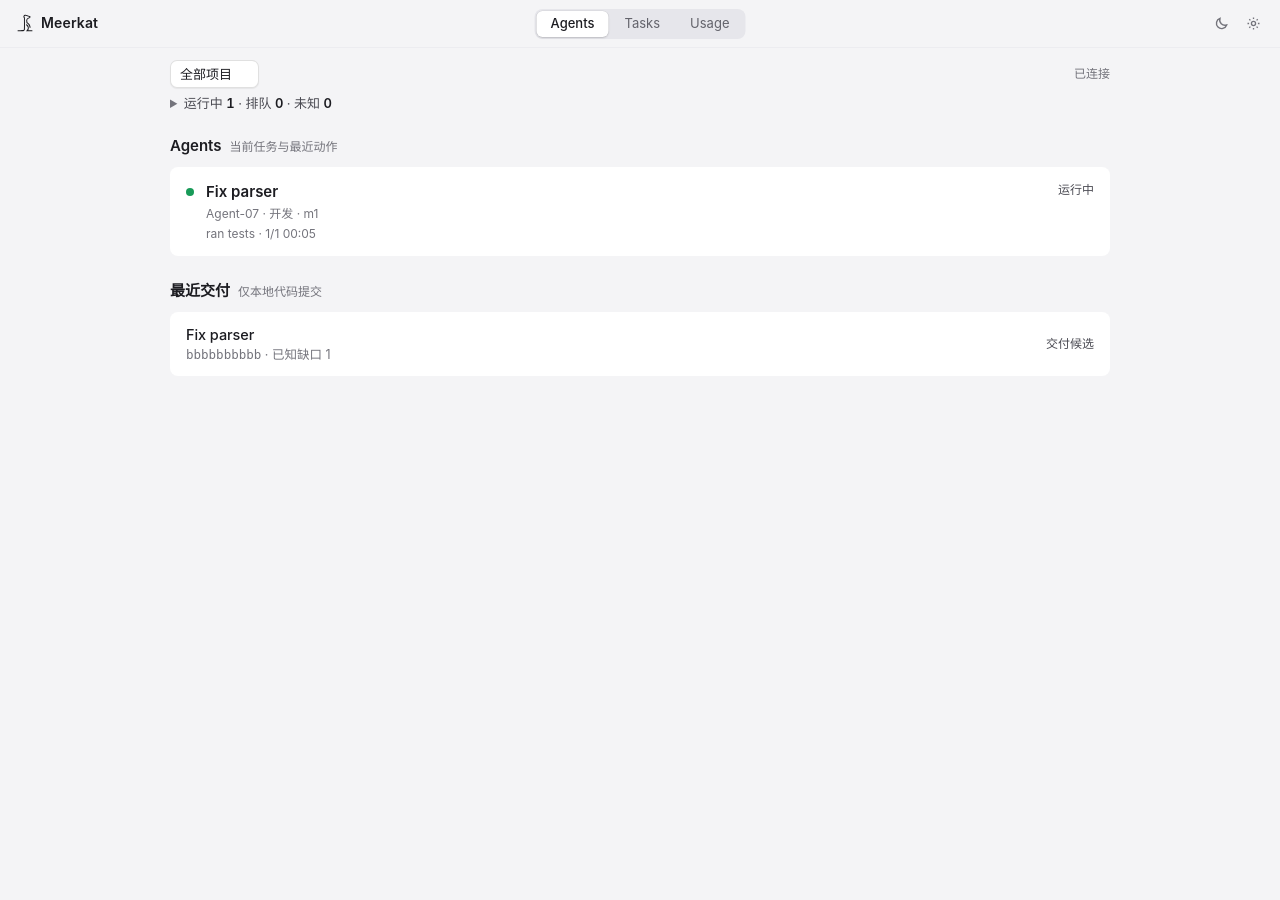
Scenario: App › does not present a review of an older SHA as the current candidate review
The width and height of the screenshot is (1280, 900).
What coordinates should you click on to do the following:
click the button "Tasks"
I would click on:
 (642, 24)
Its box is [610,10,674,36].
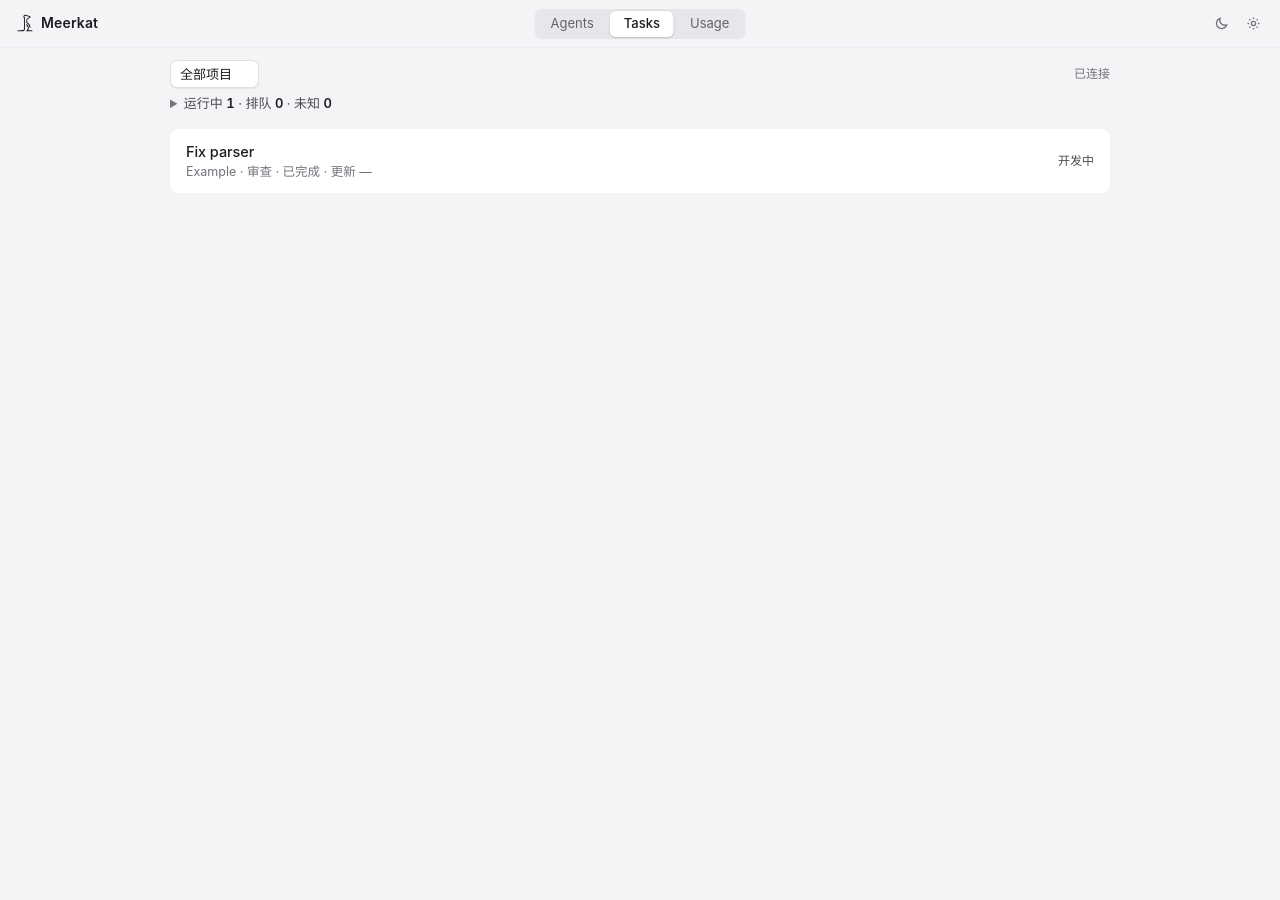
What coordinates should you click on to do the following:
click the text "Fix parser"
I would click on:
 (220, 151)
Its box is [186,143,254,160].
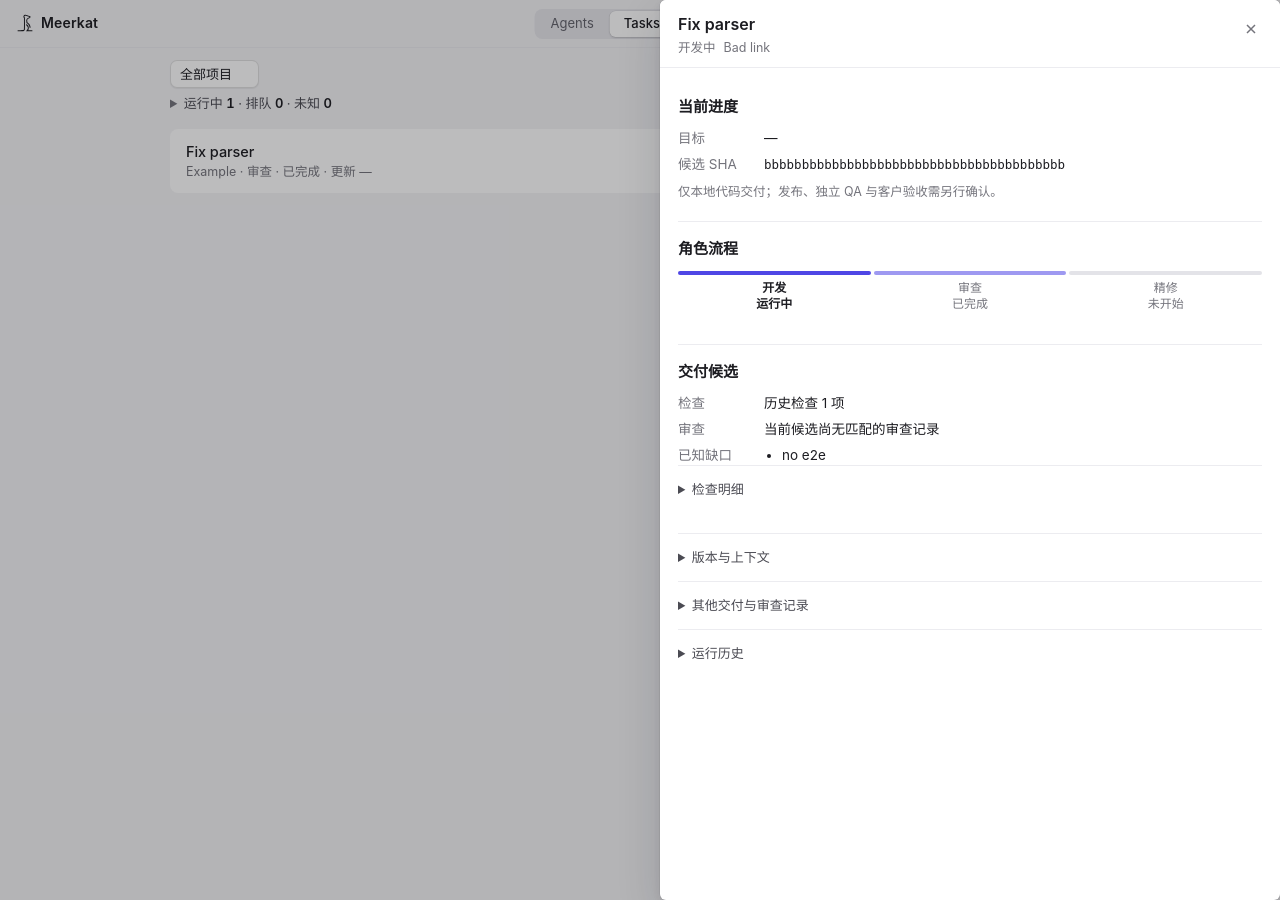
Now the text "当前候选尚无匹配的审查记录" is shown, box [764,421,940,437]
